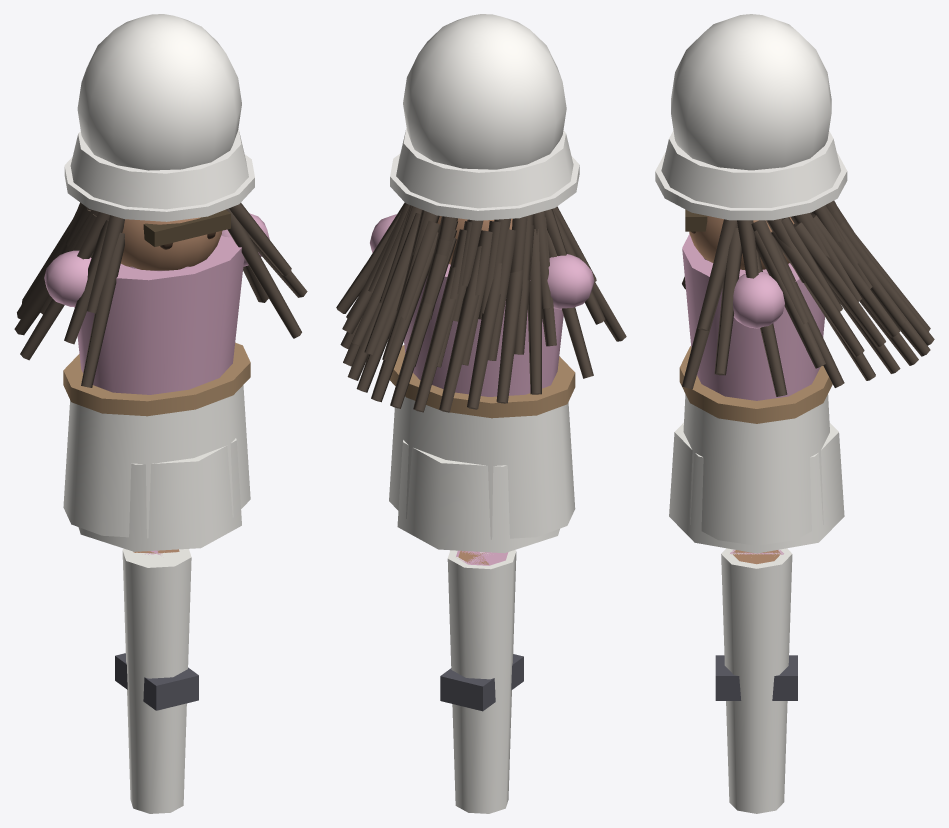
Rendered from chef_only.glb.
3 renders of one model, left to right at view 1: azimuth 30°, elevation 25°; view 2: azimuth 150°, elevation 25°; view 3: azimuth 270°, elevation 25°, orthographic.
Visible parts, largest first — view 1: mixamorigHead, mixamorigSpine1, mixamorigHips, object 8, object 10; view 2: mixamorigHead, mixamorigHips, object 8, mixamorigSpine1, object 10; view 3: mixamorigHead, mixamorigHips, object 8, mixamorigSpine1, object 10.
Part boxes in pixels (x1=…): mixamorigHead: x1=14, y1=14, x2=307, y2=387; mixamorigSpine1: x1=44, y1=209, x2=269, y2=416; mixamorigHips: x1=63, y1=385, x2=250, y2=551; object 8: x1=122, y1=548, x2=191, y2=813; object 10: x1=115, y1=653, x2=198, y2=710; mixamorigHead: x1=336, y1=14, x2=626, y2=412; mixamorigHips: x1=389, y1=396, x2=575, y2=553; object 8: x1=447, y1=550, x2=516, y2=813; mixamorigSpine1: x1=370, y1=214, x2=594, y2=418; object 10: x1=440, y1=654, x2=523, y2=711; mixamorigHead: x1=655, y1=14, x2=934, y2=396; mixamorigHips: x1=669, y1=394, x2=844, y2=553; object 8: x1=721, y1=548, x2=792, y2=813; mixamorigSpine1: x1=679, y1=209, x2=832, y2=423; object 10: x1=715, y1=655, x2=797, y2=700.
Bounding box in the file's own units: 1.07 × 3.15 × 1.02.
